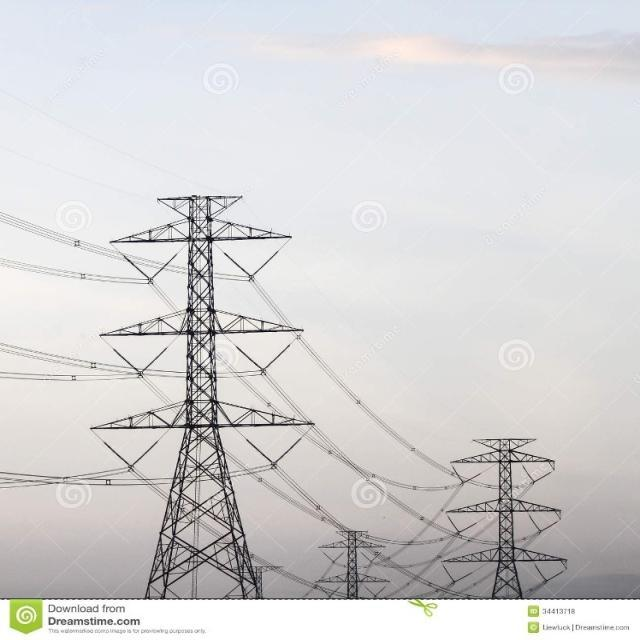non-critical vegetation: (106, 190, 294, 598), (426, 426, 580, 593), (322, 522, 378, 593)
